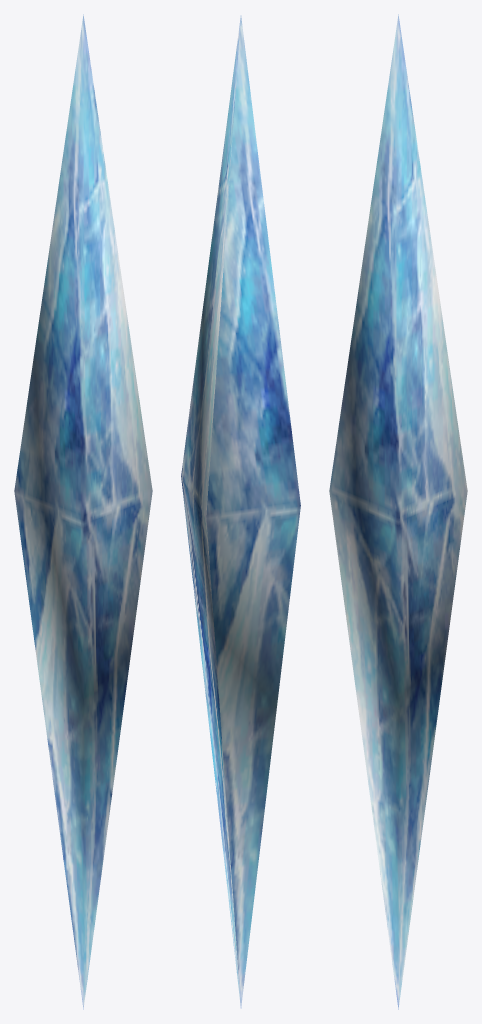
File: cjz_bingzui01.FBX
3 renders of one model, left to right at view 1: azimuth 90°, elevation 25°; view 2: azimuth 150°, elevation 25°; view 3: azimuth 270°, elevation 25°, orthographic.
Visible parts, largest first — view 1: Sphere001; view 2: Sphere001; view 3: Sphere001.
Boxes of the visible parts, bbox=[...] form: Sphere001: bbox=[14, 14, 152, 1009]; Sphere001: bbox=[181, 15, 300, 1008]; Sphere001: bbox=[329, 14, 467, 1009].
Bounding box in the file's own units: 19.39 × 154 × 19.39.
Materials: 1 (1 with a texture image).
